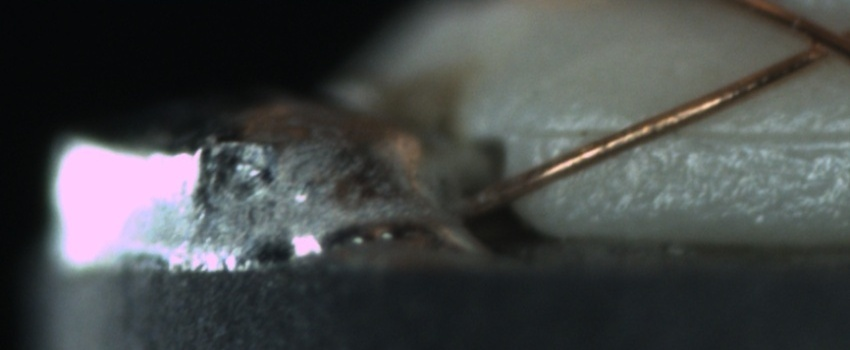CL: (780, 14, 847, 72)
DL: (523, 104, 850, 161)
